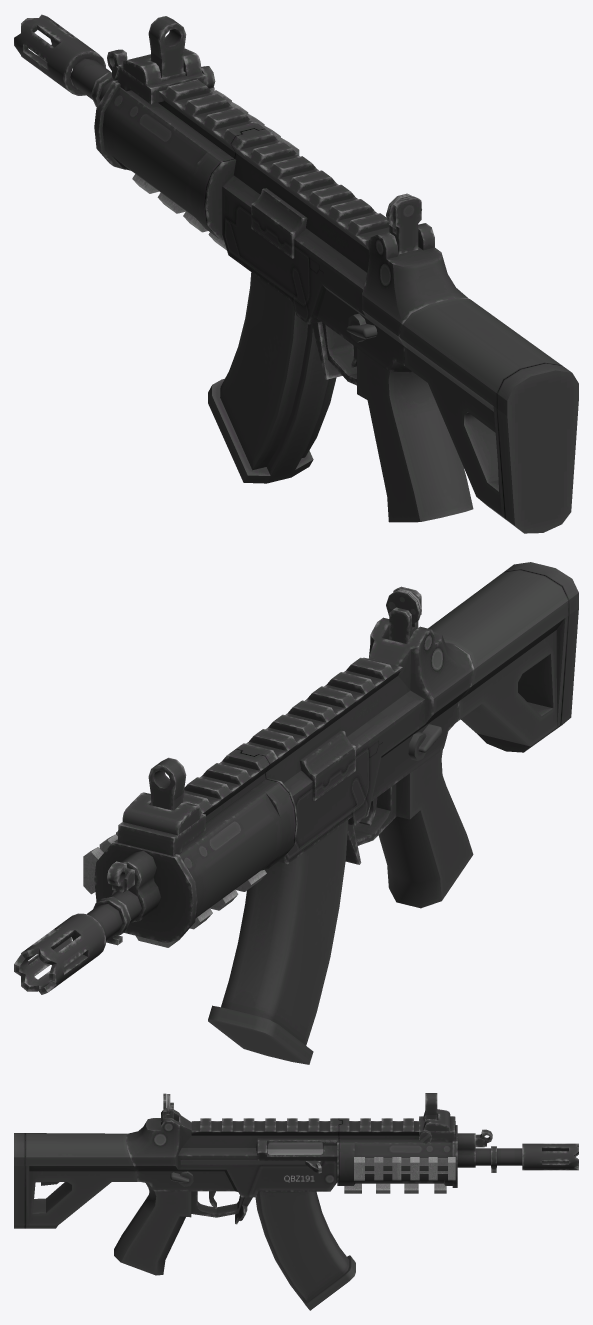
The model's file is IG_Gun_QBZ191.fbx.
The picture shows the model from 3 angles, top to bottom: view 1: azimuth 30°, elevation 25°; view 2: azimuth 150°, elevation 25°; view 3: azimuth 270°, elevation 25°; orthographic projection. The views are drawn at different scales.
Parts seen in each view (by area): view 1: WPN_QBZ191, HideIf_Stock, HideIf_Scope, HideIf_Muzzle, ShowIf_Grip; view 2: WPN_QBZ191, HideIf_Stock, HideIf_Muzzle, HideIf_Scope, ShowIf_Grip, ShowIf_Tec; view 3: WPN_QBZ191, HideIf_Stock, ShowIf_Tec, HideIf_Muzzle, ShowIf_Grip, HideIf_Scope.
Boxes of the visible parts, x1,y1,x2,y2 form: WPN_QBZ191: (70,48,473,522); HideIf_Stock: (399,298,578,533); HideIf_Scope: (148,16,421,254); HideIf_Muzzle: (14,14,105,95); ShowIf_Grip: (132,174,226,250); WPN_QBZ191: (71,617,474,1064); HideIf_Stock: (428,562,578,752); HideIf_Muzzle: (14,913,105,994); HideIf_Scope: (148,586,421,810); ShowIf_Grip: (136,870,266,947); ShowIf_Tec: (83,787,184,894); WPN_QBZ191: (114,1108,522,1310); HideIf_Stock: (14,1133,137,1228); ShowIf_Tec: (354,1157,455,1180); HideIf_Muzzle: (522,1143,578,1170); ShowIf_Grip: (344,1183,446,1193); HideIf_Scope: (163,1093,437,1120).
Bounding box in the file's own units: 0.1517 × 0.4916 × 1.2.
